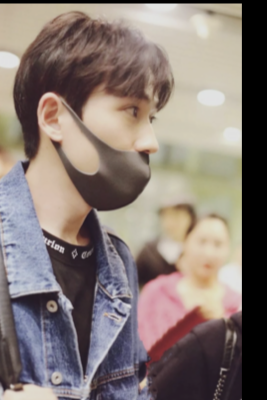mask_weared_incorrect: (59, 100, 158, 210)
